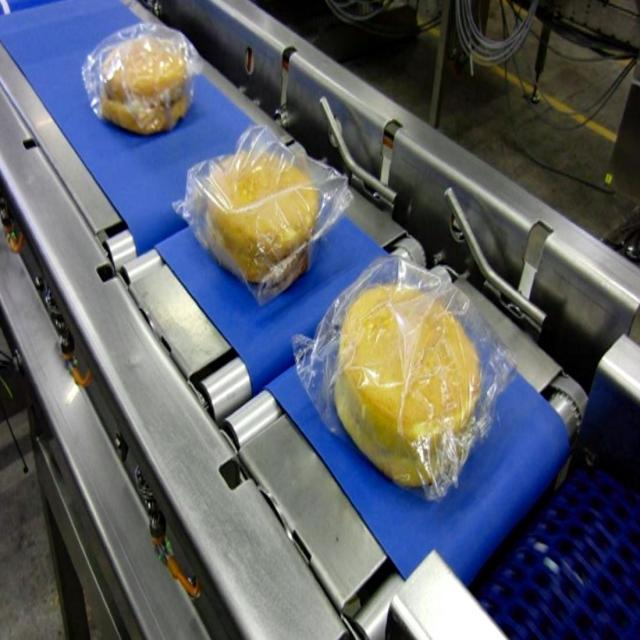food: (332, 281, 482, 491), (186, 127, 326, 301), (86, 21, 202, 135)
